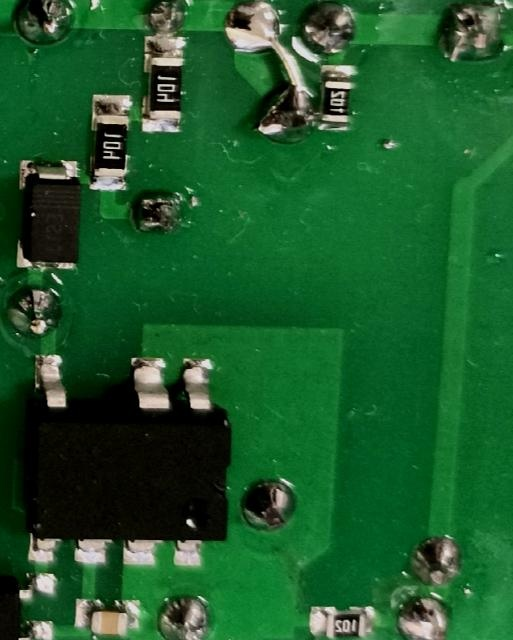chip-capacitor: (72, 597, 144, 636)
chip-resistor: (140, 33, 187, 136), (87, 92, 134, 192), (317, 60, 355, 133), (305, 604, 376, 639)
diode: (11, 158, 84, 274)
ic: (23, 353, 234, 565)
